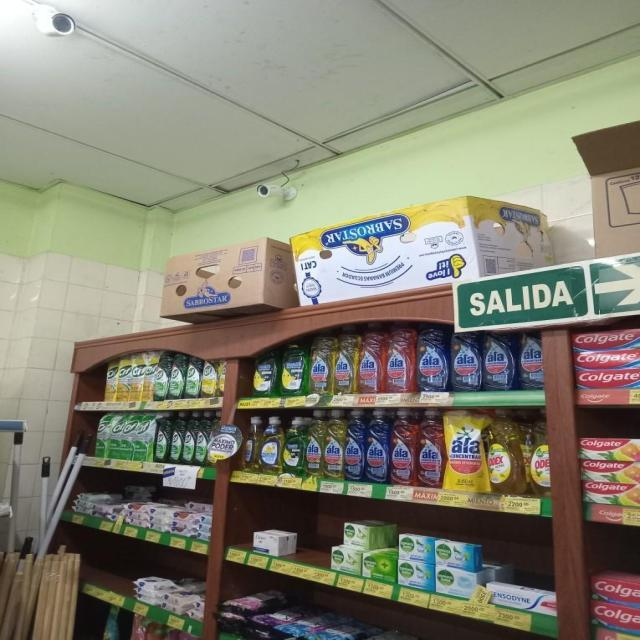ala_conc_amarillo: (309, 330, 334, 395), (335, 324, 357, 394), (324, 409, 344, 480), (304, 412, 323, 476)
ala_conc_azul: (416, 325, 449, 392), (450, 330, 481, 391), (483, 332, 515, 390), (366, 408, 389, 483), (518, 332, 544, 390), (344, 408, 364, 482)
ala_conc_rojo: (384, 321, 416, 394), (417, 407, 444, 488), (390, 408, 416, 486), (358, 321, 383, 394)
ala_sachet_amarillo: (446, 407, 486, 492)
cif_conc_bot_amarilla: (202, 357, 218, 398)
cif_conc_botella_verde: (194, 411, 208, 466), (169, 352, 184, 400), (155, 412, 169, 463), (182, 412, 195, 465), (186, 354, 200, 399), (170, 412, 182, 464)
cif_conc_sachet_amarillo: (116, 353, 132, 402), (130, 352, 144, 401), (104, 358, 117, 402)
cif_conc_sachet_verde: (132, 412, 154, 461), (107, 412, 129, 459)
magistral_con_amarillo: (258, 415, 282, 474), (243, 416, 259, 472)
